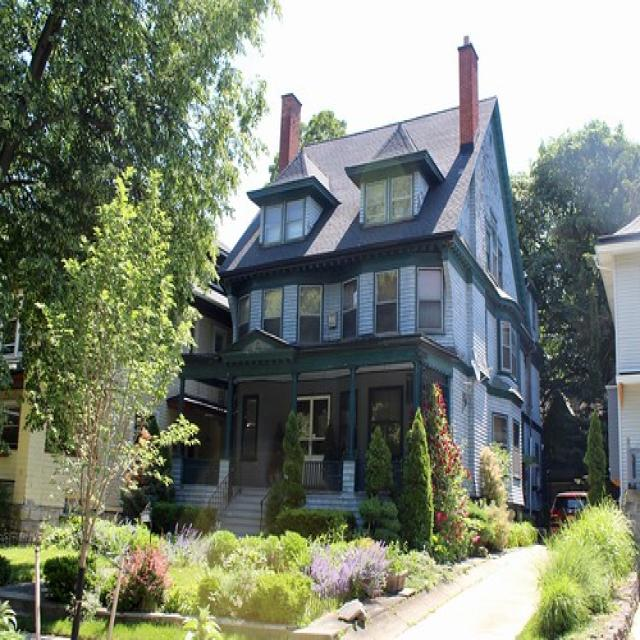building: (216, 54, 548, 556)
